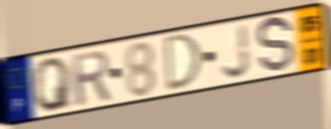8: (123, 39, 158, 99)
D: (163, 31, 204, 95)
J: (219, 22, 253, 81)
Q: (31, 55, 75, 114)
R: (69, 48, 114, 108)
S: (255, 14, 296, 77)
